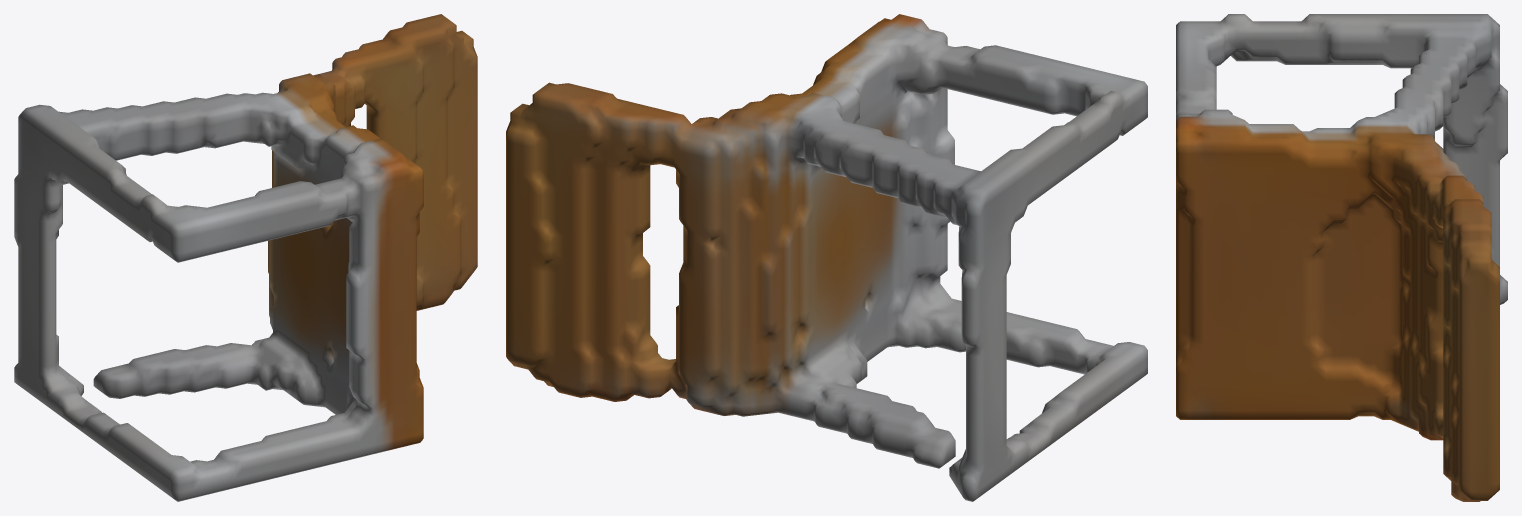
Rendered from Brown plastic s-chair with no armrests and a bronz.glb.
3 renders of one model, left to right at view 1: azimuth 30°, elevation 25°; view 2: azimuth 150°, elevation 25°; view 3: azimuth 270°, elevation 25°, orthographic. The views are drawn at different scales.
Parts seen in each view (by area): view 1: Brown plastic s-chair with no armrests and a bronz; view 2: Brown plastic s-chair with no armrests and a bronz; view 3: Brown plastic s-chair with no armrests and a bronz.
Part boxes in pixels (x1=…): Brown plastic s-chair with no armrests and a bronz: x1=14, y1=14, x2=477, y2=501; Brown plastic s-chair with no armrests and a bronz: x1=506, y1=14, x2=1147, y2=501; Brown plastic s-chair with no armrests and a bronz: x1=1176, y1=14, x2=1507, y2=501.
Bounding box in the file's own units: 64 × 39 × 41.
